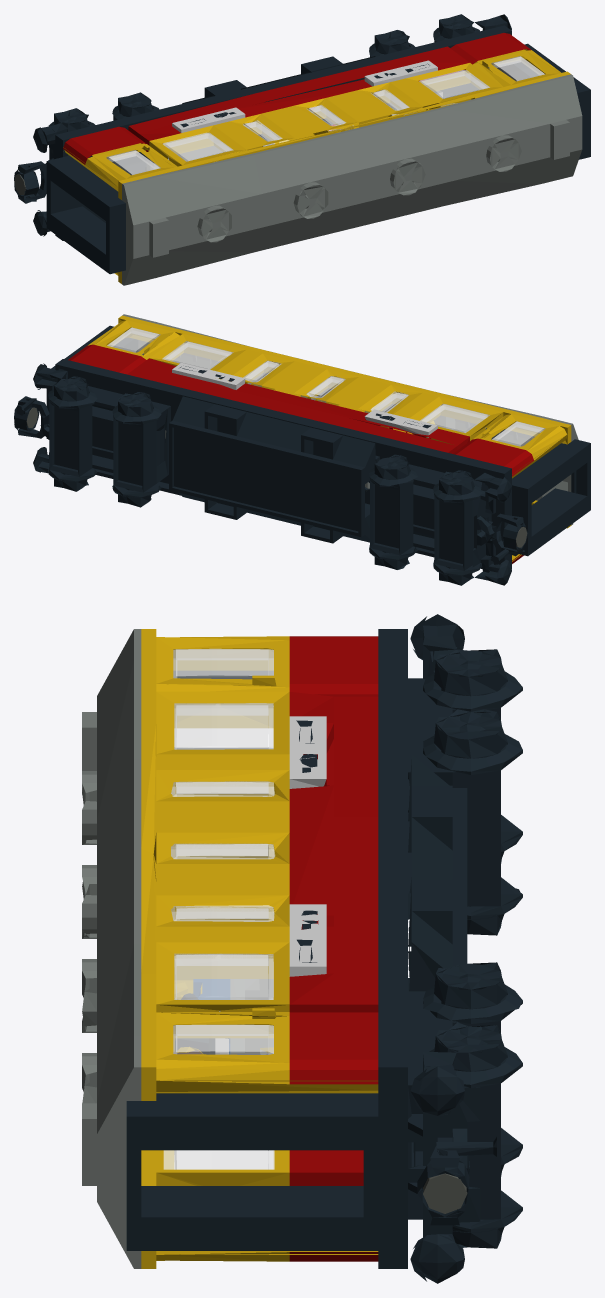
Rendered from passenger-carriage-sleeper.glb.
The picture shows the model from 3 angles, top to bottom: view 1: azimuth 30°, elevation 25°; view 2: azimuth 150°, elevation 25°; view 3: azimuth 270°, elevation 25°; orthographic projection. The views are drawn at different scales.
Size of the model in its own units: 250 by 51.8 by 95.2.
